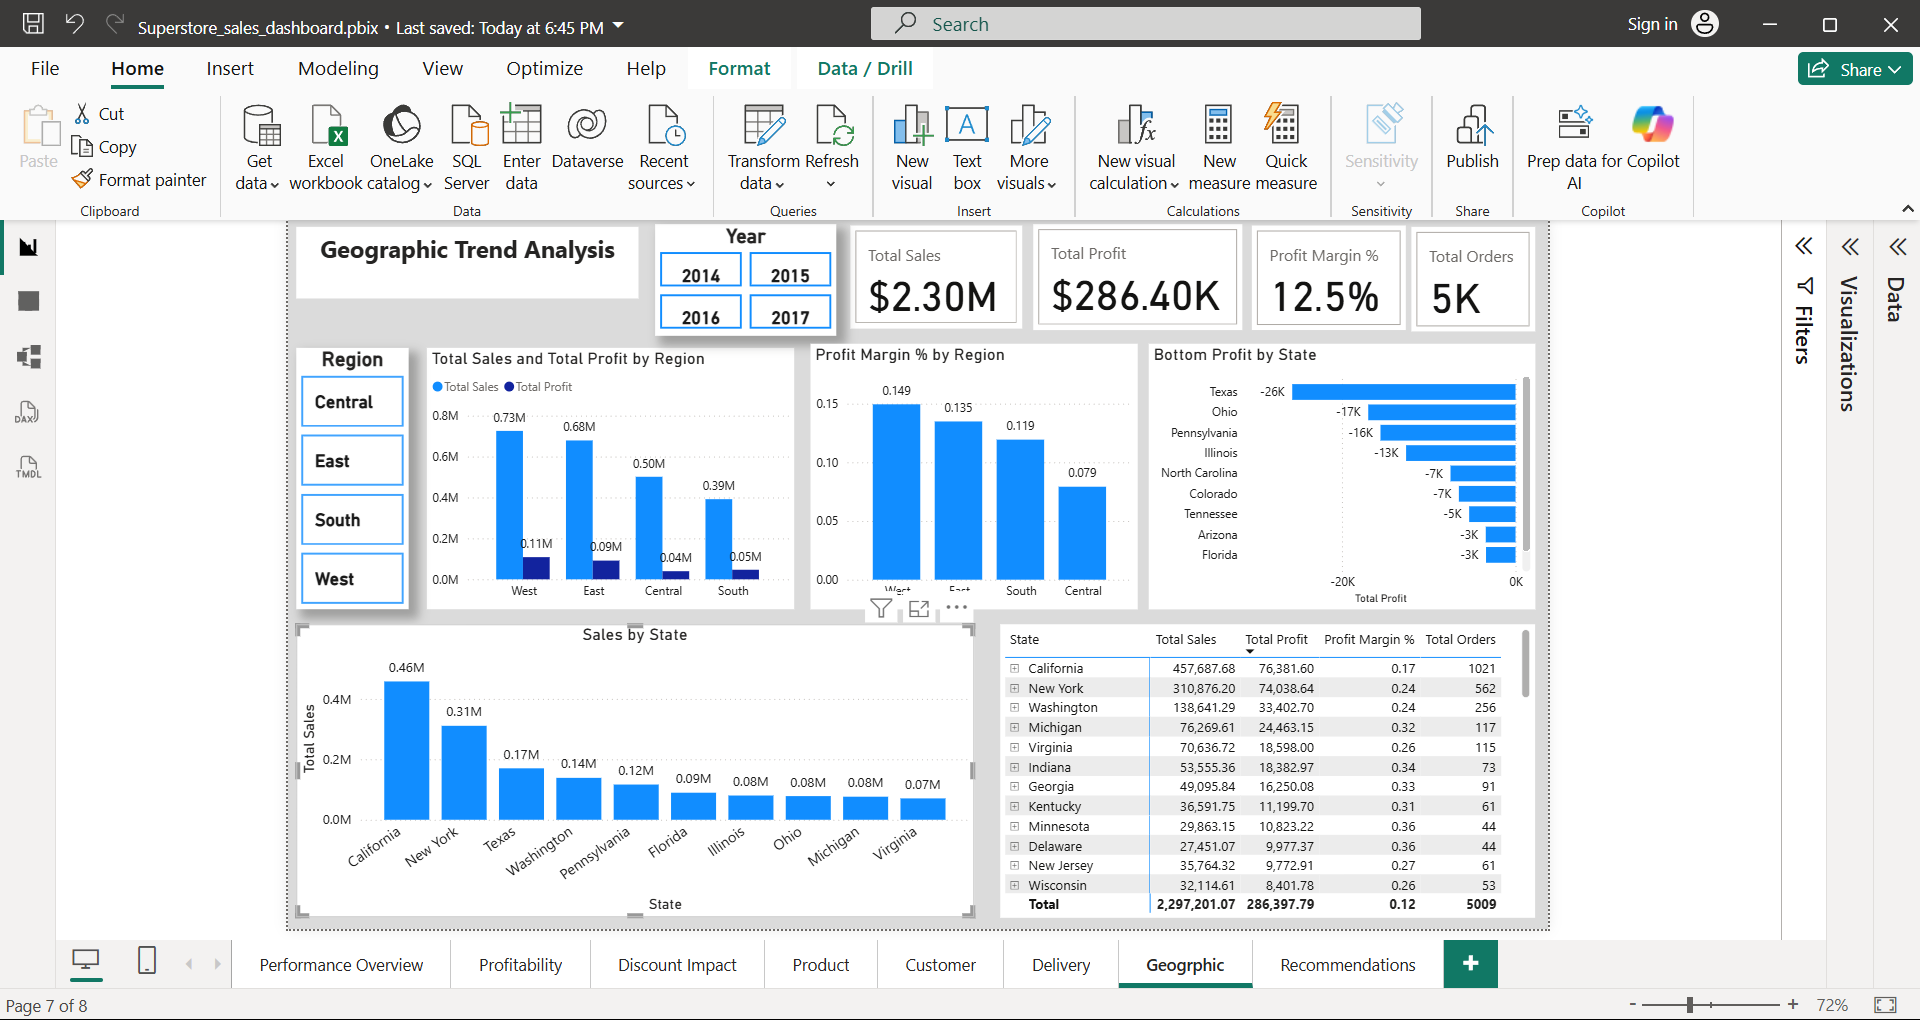

The dashboard page shown, as its layout file describes it:
{"tool":"powerbi","page":{"name":"Geogrphic","canvas":[1280,720],"ordinal":6},"visuals":[{"type":"cardVisual","fields":{"Data":["superstore.Total Sales"]},"box":[571.2,5.6,174.6,104.7],"z":0},{"type":"cardVisual","fields":{"Data":["superstore.Total Profit"]},"box":[757,4.2,212.3,107.5],"z":1000},{"type":"cardVisual","fields":{"Data":["superstore.Profit Margin %"]},"box":[979,5.6,156.4,106.1],"z":2000},{"type":"clusteredColumnChart","fields":{"Category":["superstore.Region"],"Y":["superstore.Total Sales","superstore.Total Profit"]},"box":[141.1,129.9,372.9,265.4],"z":3000},{"type":"cardVisual","fields":{"Data":["superstore.Total Orders"]},"box":[1141,7,125.7,106.1],"z":4000},{"type":"advancedSlicerVisual","fields":{"Values":["DateTable.Date.Variation.Date Hierarchy.Year"]},"box":[372.9,4.2,184.4,113.1],"z":5000},{"type":"pivotTable","fields":{"Values":["superstore.Total Sales","superstore.Total Profit","superstore.Profit Margin %","superstore.Total Orders"],"Rows":["superstore.State","superstore.Region"]},"box":[723.7,411,543.2,298.2],"z":6000},{"type":"advancedSlicerVisual","fields":{"Values":["superstore.Region"]},"box":[8.4,129.9,114.5,265.4],"z":7000},{"type":"clusteredColumnChart","fields":{"Category":["superstore.Region"],"Y":["superstore.Profit Margin %"]},"box":[530.7,125.7,332.4,269.5],"z":8000},{"type":"clusteredBarChart","title":"Bottom Profit by State","fields":{"Category":["superstore.State"],"Y":["superstore.Total Profit"]},"box":[874.3,125.7,392.4,269.5],"z":10000},{"type":"textbox","box":[8.4,7,347.8,72.6],"z":11000},{"type":"clusteredColumnChart","title":" Sales by State","fields":{"Category":["superstore.State"],"Y":["superstore.Total Sales"]},"box":[8.4,410.6,688.5,297.5],"z":11001}]}

Visuals, with their boxes on the page's 1280x720 design canvas (x1, y1, x2, y2). These are canvas units, not pixel positions in the 1920x1020 screenshot, which may show the page scaled, cropped or inside an application window:
cardVisual - superstore.Total Sales: select_region(571, 6, 746, 110)
cardVisual - superstore.Total Profit: select_region(757, 4, 969, 112)
cardVisual - superstore.Profit Margin %: select_region(979, 6, 1135, 112)
clusteredColumnChart - superstore.Region x superstore.Total Sales: select_region(141, 130, 514, 395)
cardVisual - superstore.Total Orders: select_region(1141, 7, 1267, 113)
advancedSlicerVisual - DateTable.Date.Variation.Date Hierarchy.Year: select_region(373, 4, 557, 117)
pivotTable - superstore.Total Sales x superstore.Total Profit: select_region(724, 411, 1267, 709)
advancedSlicerVisual - superstore.Region: select_region(8, 130, 123, 395)
clusteredColumnChart - superstore.Region x superstore.Profit Margin %: select_region(531, 126, 863, 395)
"Bottom Profit by State" clusteredBarChart: select_region(874, 126, 1267, 395)
textbox: select_region(8, 7, 356, 80)
" Sales by State" clusteredColumnChart: select_region(8, 411, 697, 708)
